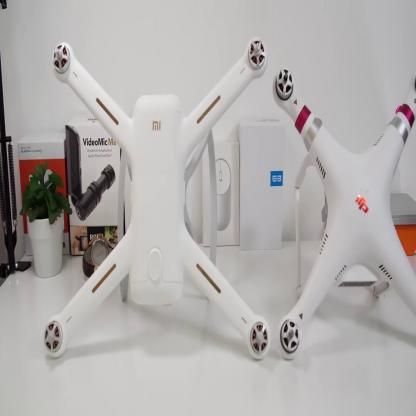drone: (39, 24, 271, 358), (269, 52, 416, 366)
